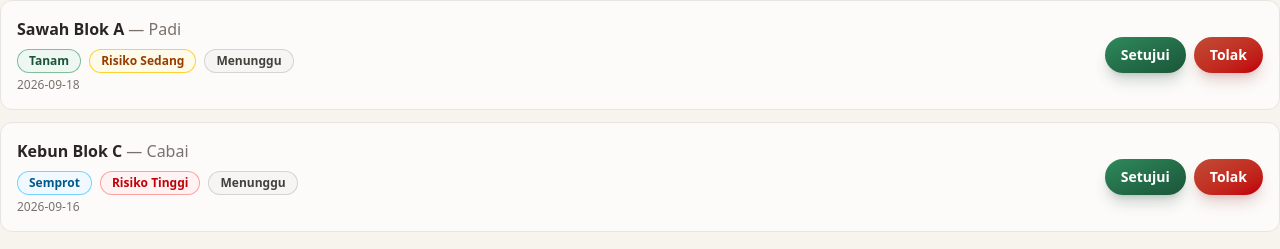
Scenario: ValidationTableClient › 'Setujui' mengirim PATCH TERVALIDASI, lalu daftar dimuat ulang
Click the button "Setujui" in the row of "Risiko Sedang": (1145, 55) left=1105, top=37, right=1186, bottom=73
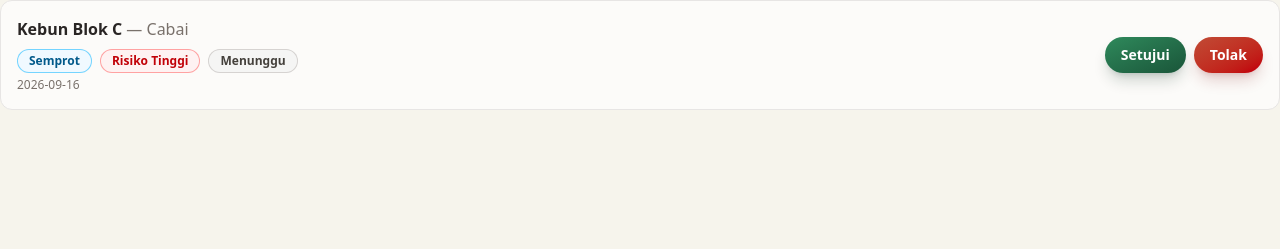
expect the number of list items is 1: met, box left=0, top=0, right=1279, bottom=110
